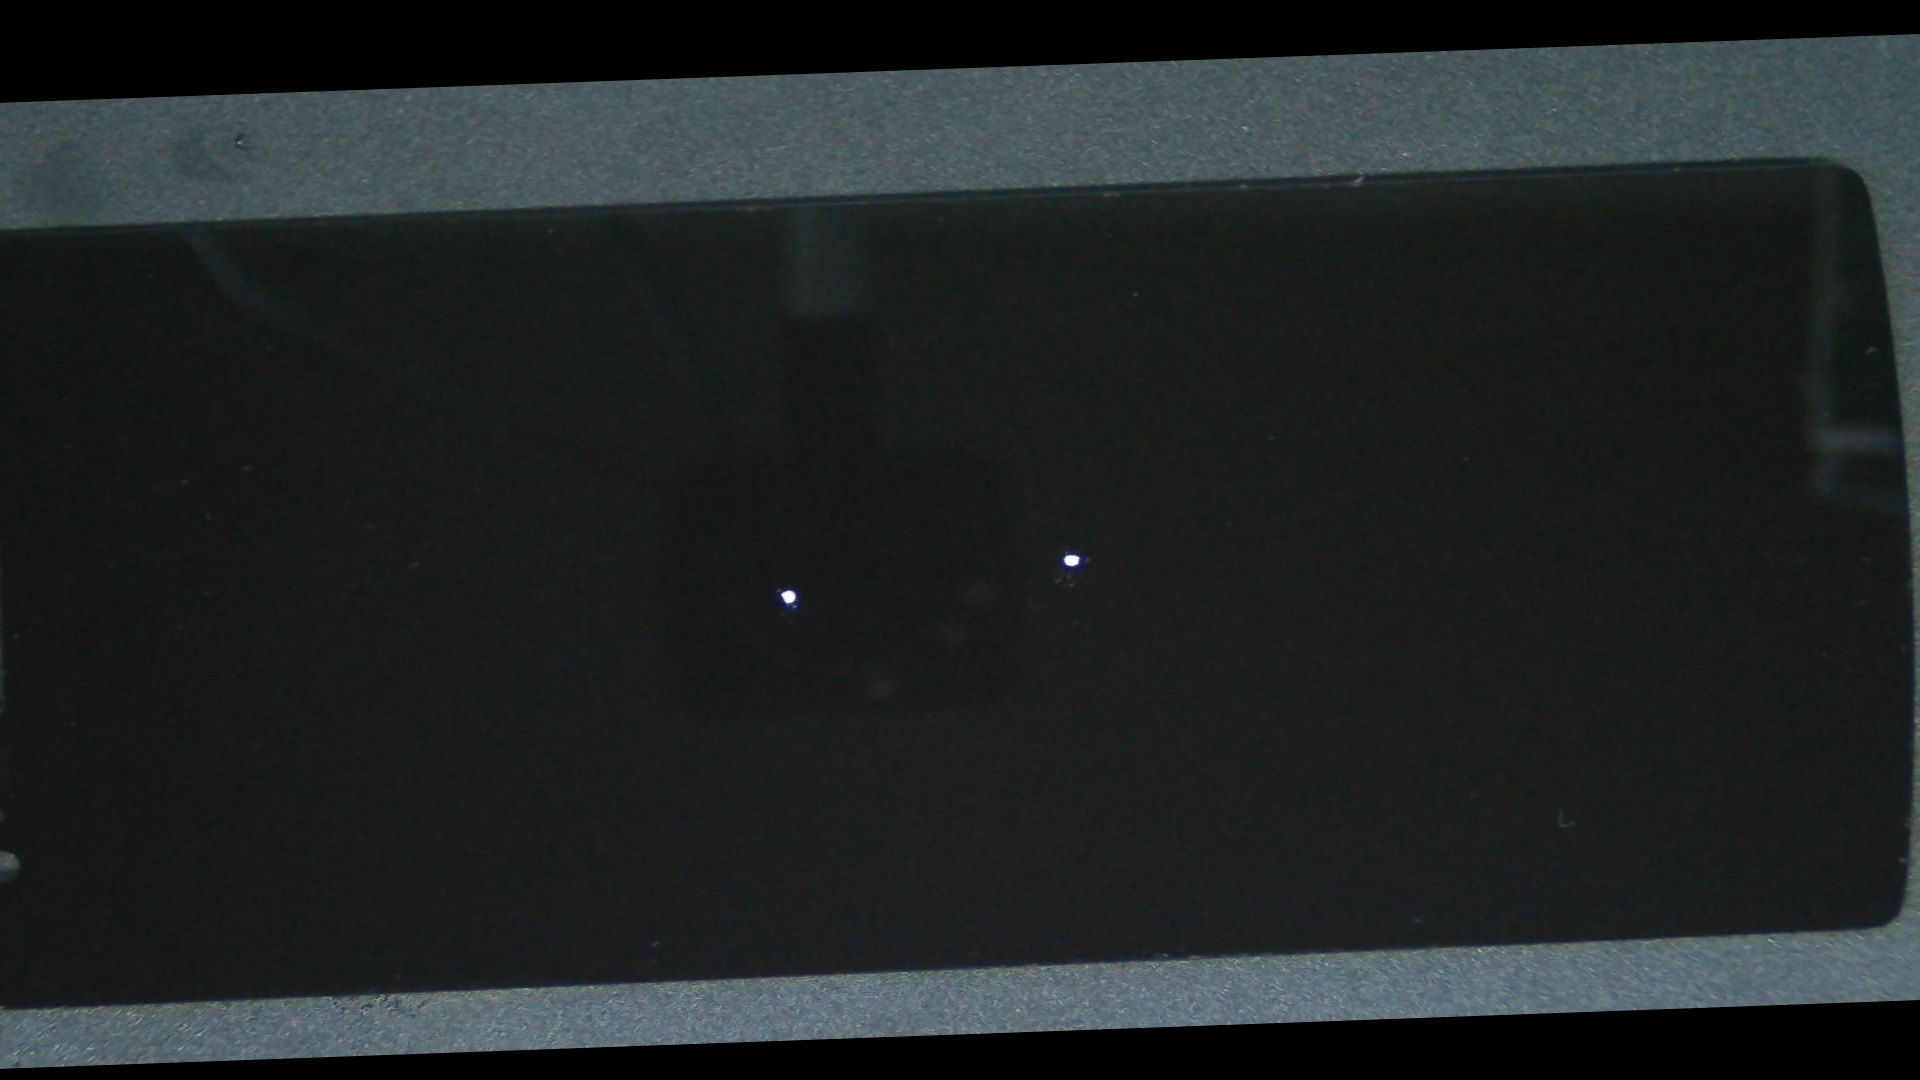oil: (431, 286, 1697, 820), (294, 314, 1282, 862)
